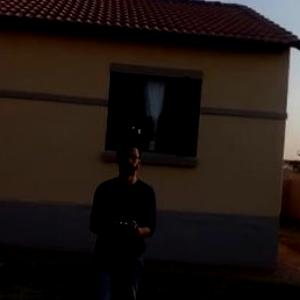follow: (84, 130, 160, 299)
